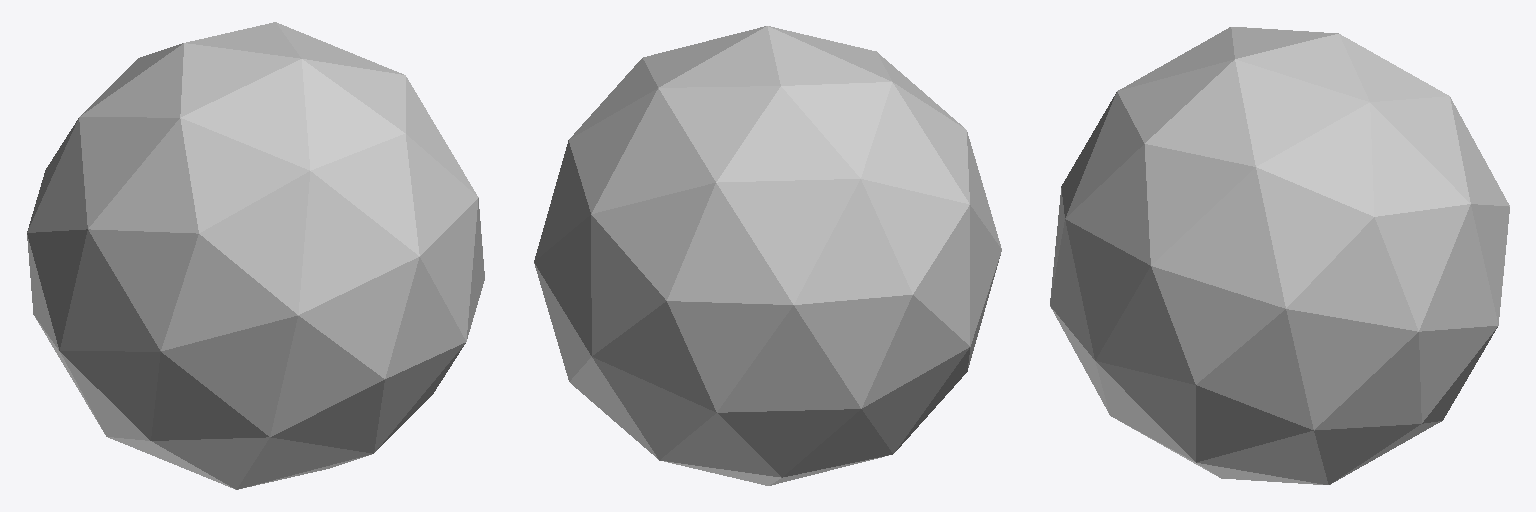
Rendered from explotion.obj.
3 renders of one model, left to right at view 1: azimuth 30°, elevation 25°; view 2: azimuth 150°, elevation 25°; view 3: azimuth 270°, elevation 25°, orthographic.
Visible parts, largest first — view 1: Icosphere_Icosphere.001; view 2: Icosphere_Icosphere.001; view 3: Icosphere_Icosphere.001.
Boxes of the visible parts, x1=… form: Icosphere_Icosphere.001: x1=27, y1=22, x2=484, y2=489; Icosphere_Icosphere.001: x1=534, y1=26, x2=1001, y2=485; Icosphere_Icosphere.001: x1=1050, y1=27, x2=1509, y2=484.
Size of the model in its own units: 3.77 by 3.76 by 3.77.